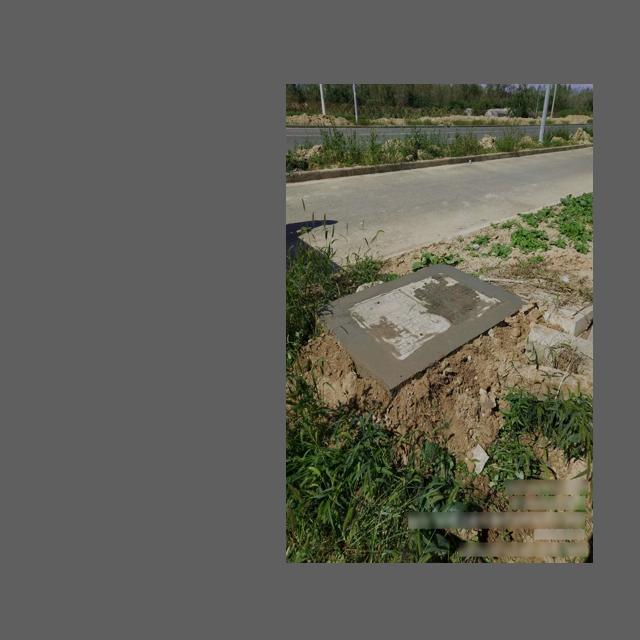good: (345, 270, 507, 364)
